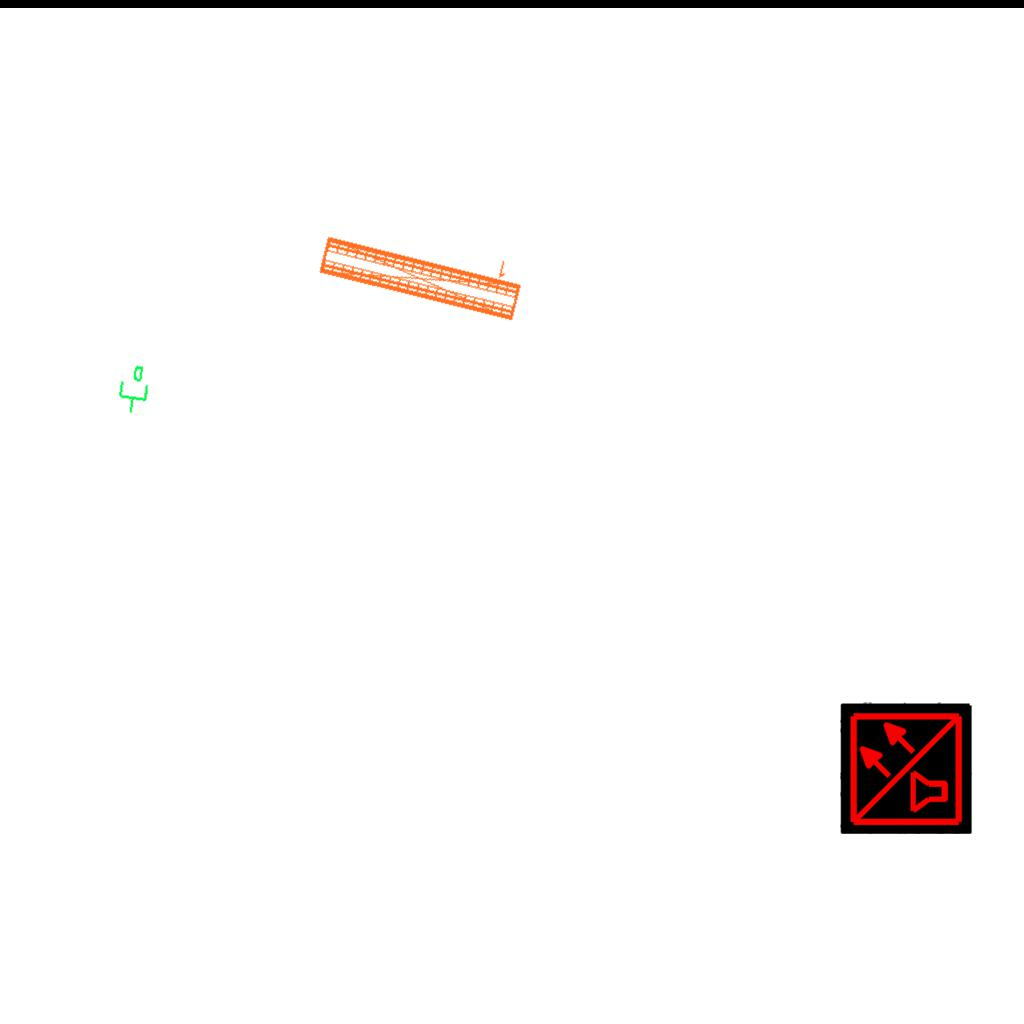Buero_Pendelleuchten_LED: (314, 213, 530, 326)
Datenanschluss_einfach: (112, 361, 154, 417)
OKW_Multisensormelder_(Kombination_optischer_Rauch-Kahlenmonoxid_Waerme-Melder): (840, 702, 972, 834)
